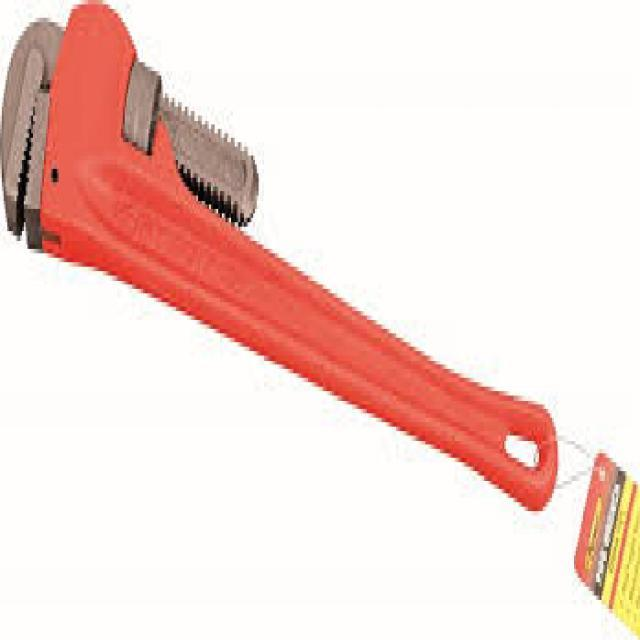wrench: (0, 0, 558, 516)
